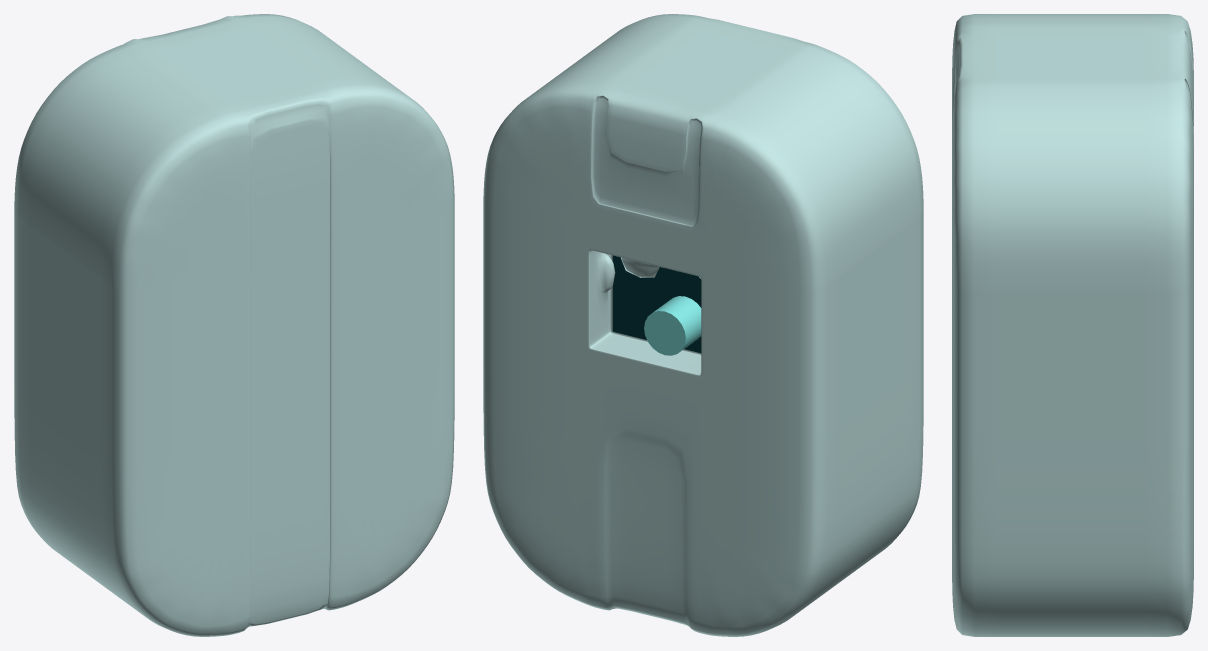
File: robot_05.fbx
3 renders of one model, left to right at view 1: azimuth 30°, elevation 25°; view 2: azimuth 150°, elevation 25°; view 3: azimuth 270°, elevation 25°, orthographic. The views are drawn at different scales.
Parts seen in each view (by area): view 1: pCylinder10; view 2: pCylinder10; view 3: pCylinder10.
Part boxes in pixels (<box>): pCylinder10: <box>14,14,454,636</box>; pCylinder10: <box>483,14,923,636</box>; pCylinder10: <box>952,14,1193,636</box>.
Bounding box in the file's own units: 3.05 × 4.46 × 1.8.
